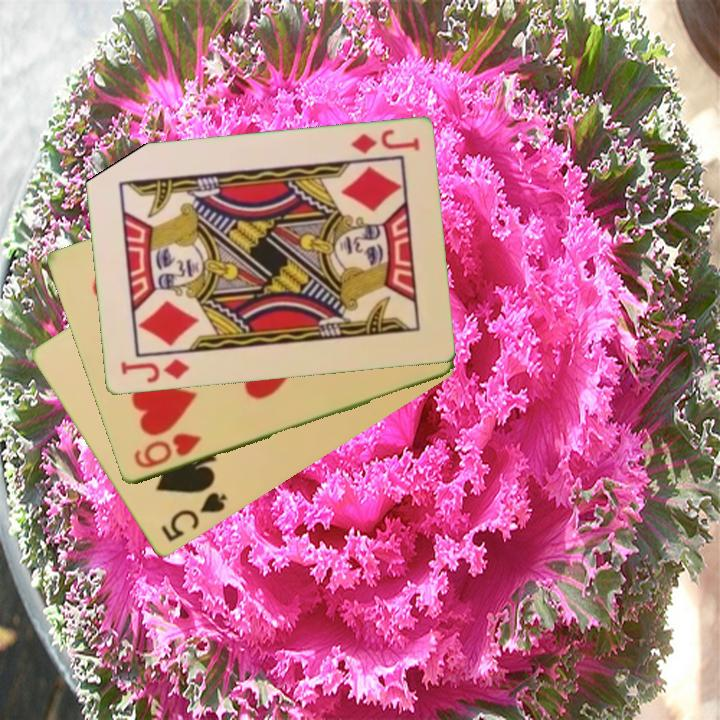5s: (157, 489, 230, 545)
6h: (129, 429, 205, 472)
Jd: (347, 126, 423, 158), (117, 356, 192, 387)
